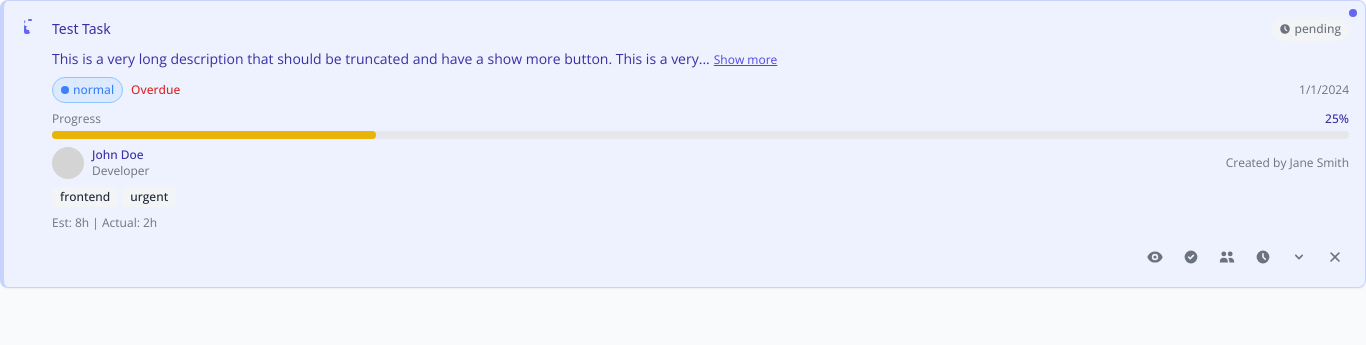
Test case: TaskNotification › Interactions › toggles description visibility when show more/less is clicked
The image size is (1366, 345).
Click the button "Show more". click: (746, 60)
box: [714,52,777,68]
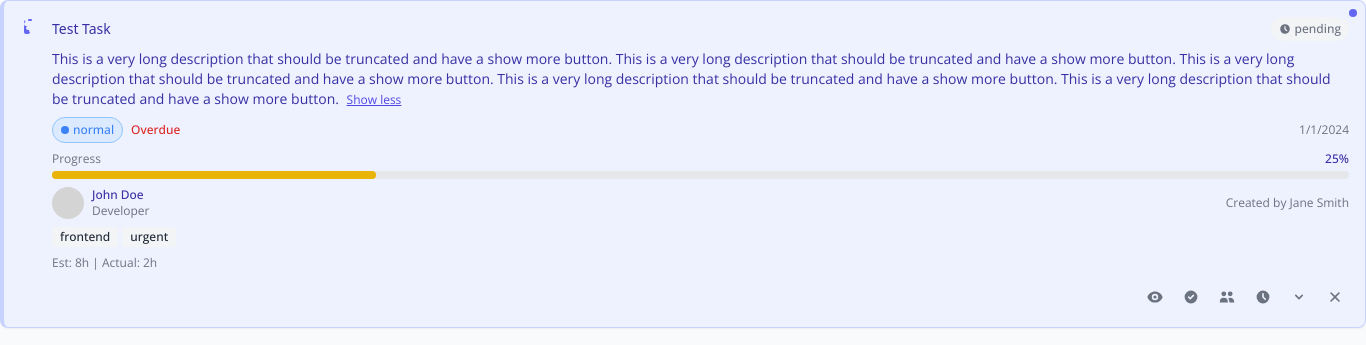
Result: the button "Show less" is shown at [347,92,401,108]
